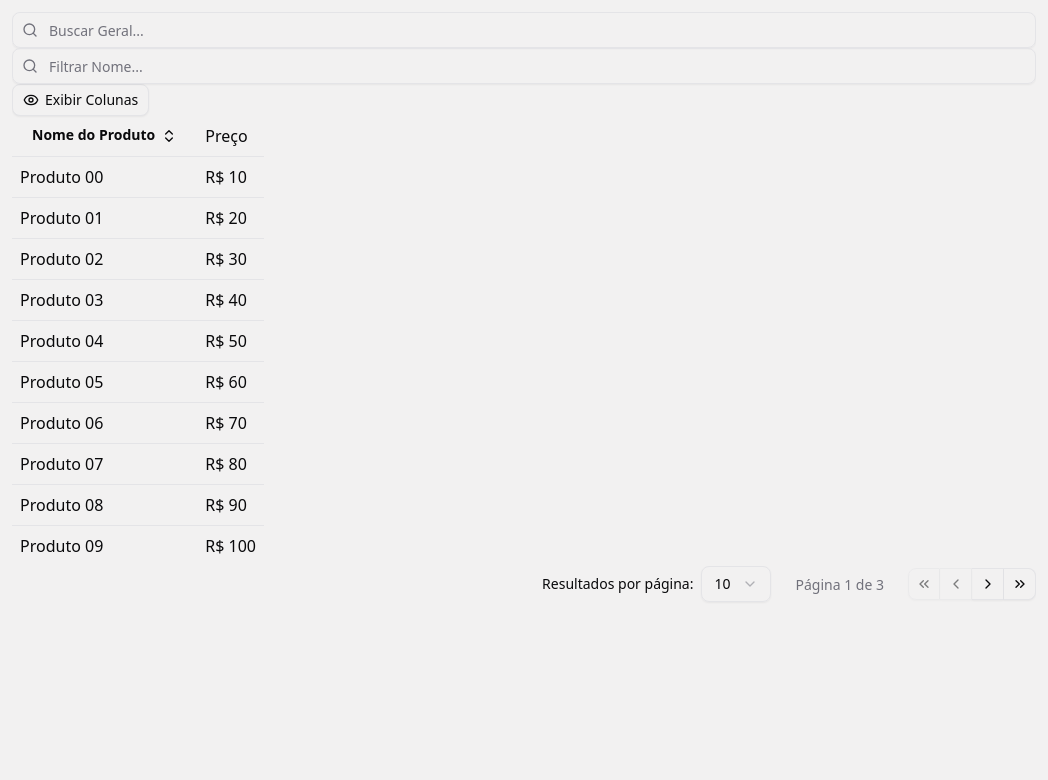
it: DataTable Integration & Coverage › should navigate using ALL pagination buttons (First, Prev, Next, Last)
This screenshot has width=1048, height=780.
Expected: the button named "Página anterior" is disabled, [940,568,972,600]
Expected: the text "Produto 00" is shown, [12,156,197,197]
Click the button named "Próxima página" at [988, 584], box [972,568,1004,600]
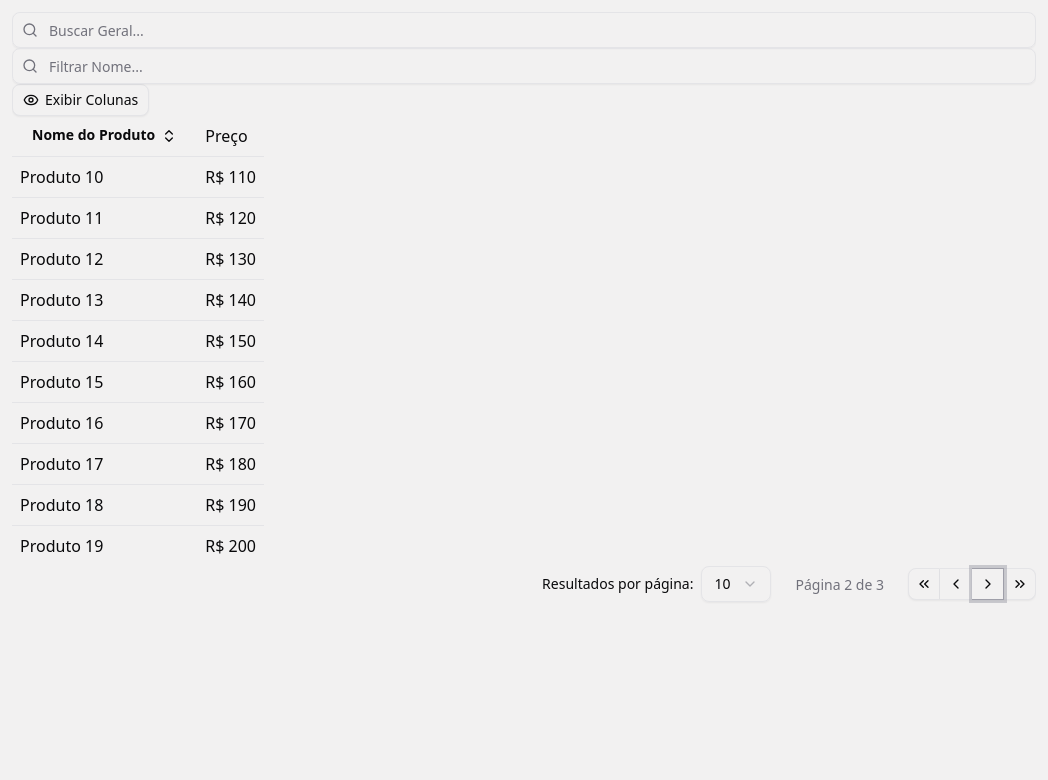
Now the text "Produto 10" is shown, box [12,156,197,197]
Now the button named "Página anterior" is enabled, box [940,568,972,600]
Click the button named "Última página" at [1020, 584], box [1004,568,1036,600]
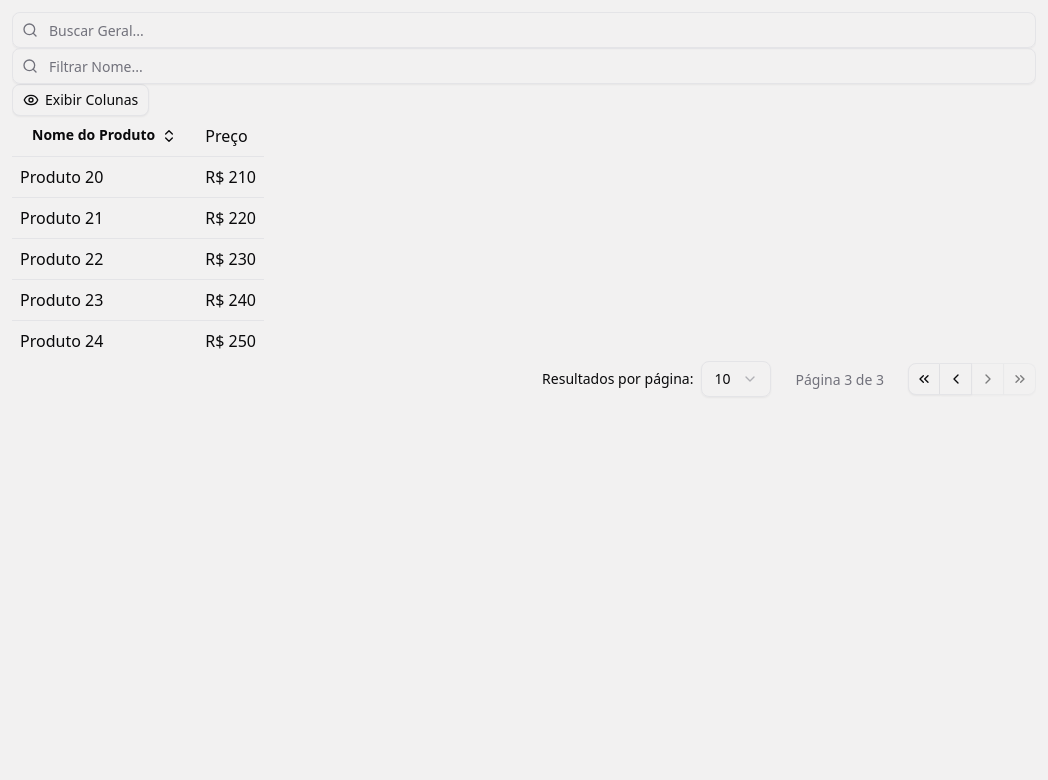
Expected: the button named "Próxima página" is disabled, [972,362,1004,394]
Now the text "Produto 24" is shown, box [12,320,197,360]
Click the button named "Página anterior" at [956, 378], box [940,362,972,394]
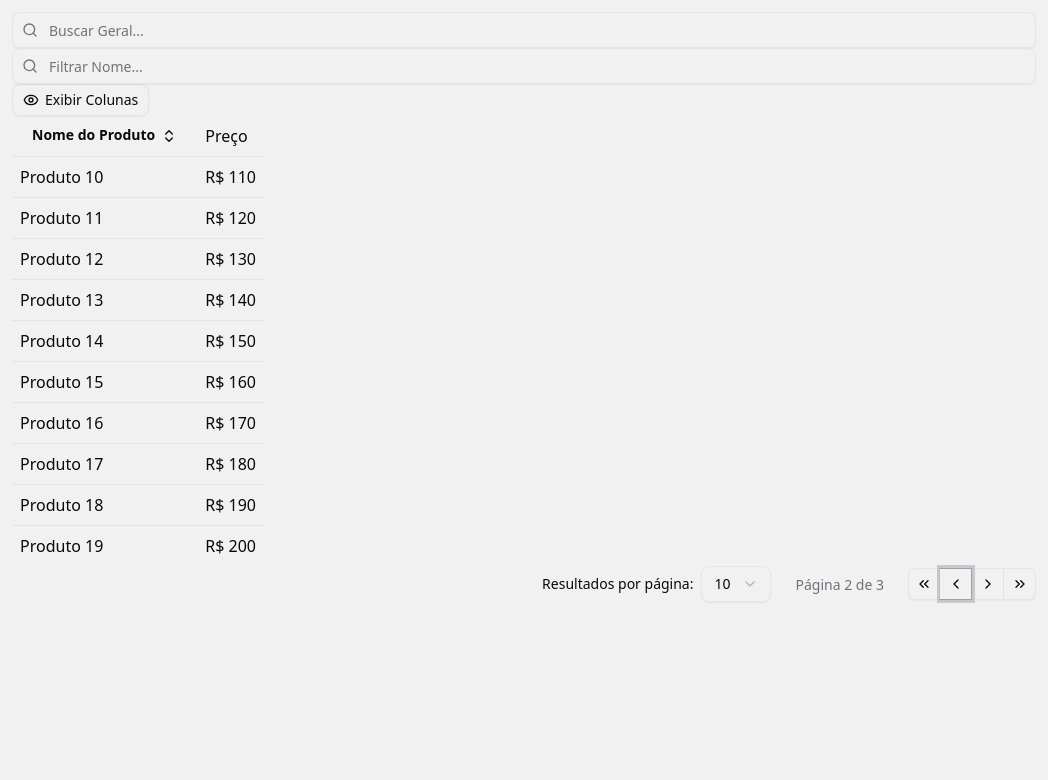
Now the text "Produto 10" is shown, box [12,156,197,197]
Click the button named "Primeira página" at [924, 584], box [908,568,940,600]
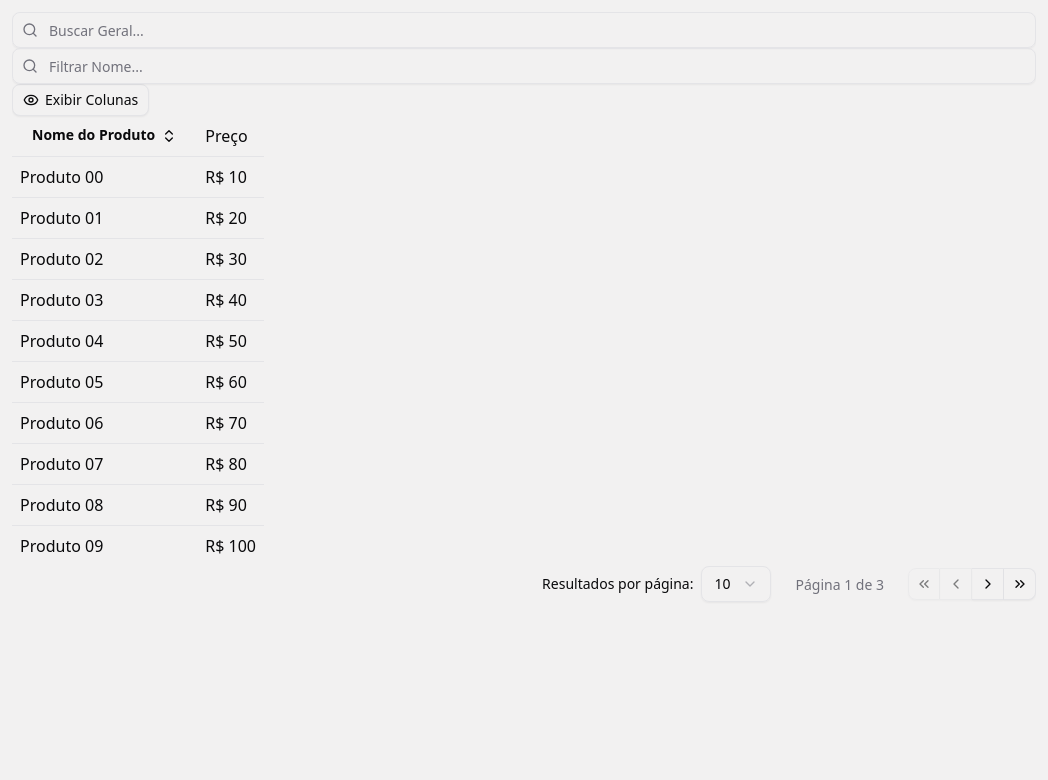
Now the text "Produto 00" is shown, box [12,156,197,197]
